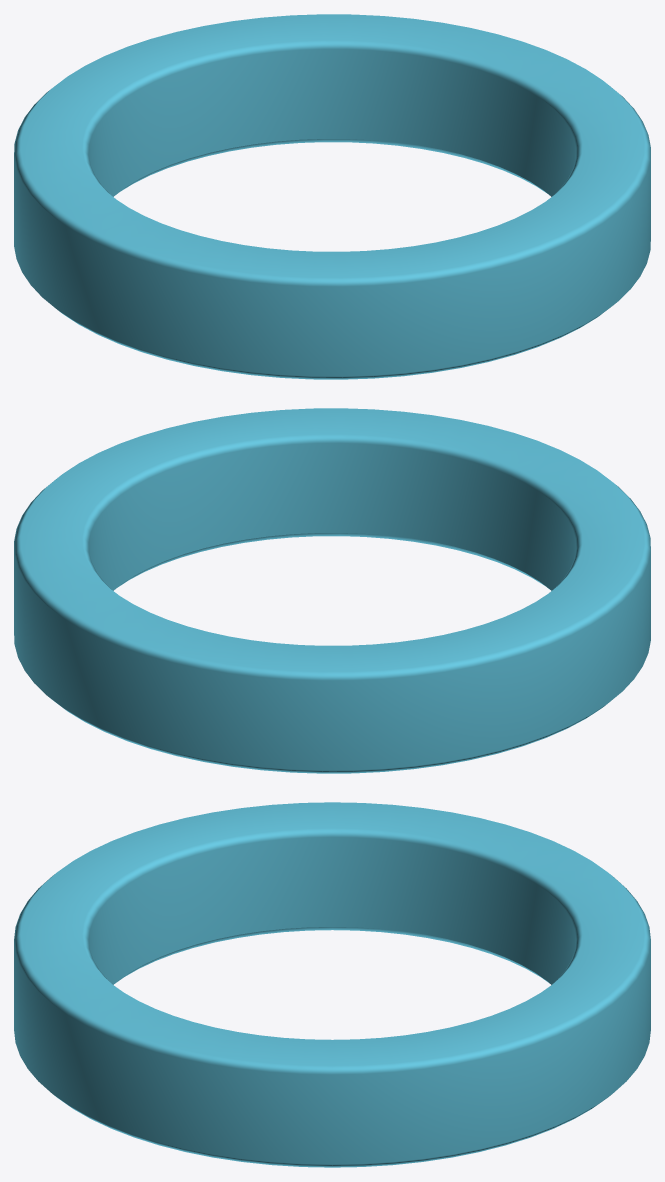
3 renders of one model, top to bottom at view 1: azimuth 30°, elevation 25°; view 2: azimuth 150°, elevation 25°; view 3: azimuth 270°, elevation 25°, orthographic.
Visible parts, largest first — view 1: seal_body; view 2: seal_body; view 3: seal_body.
Part boxes in pixels (bbox=[...]): seal_body: bbox=[14, 14, 650, 379]; seal_body: bbox=[14, 408, 650, 773]; seal_body: bbox=[14, 802, 650, 1167].
Bounding box in the file's own units: 0.054 × 0.00952 × 0.054.
